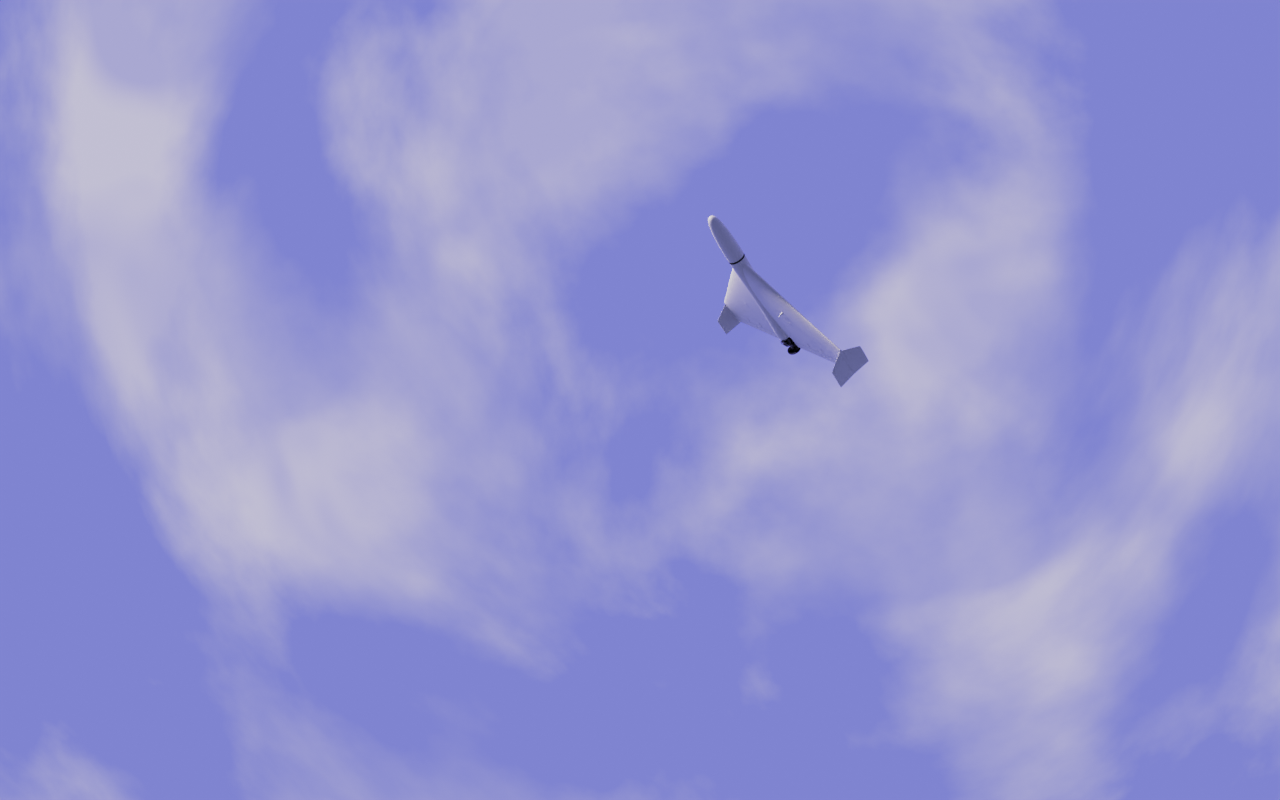shahed: (708, 215, 870, 389)
